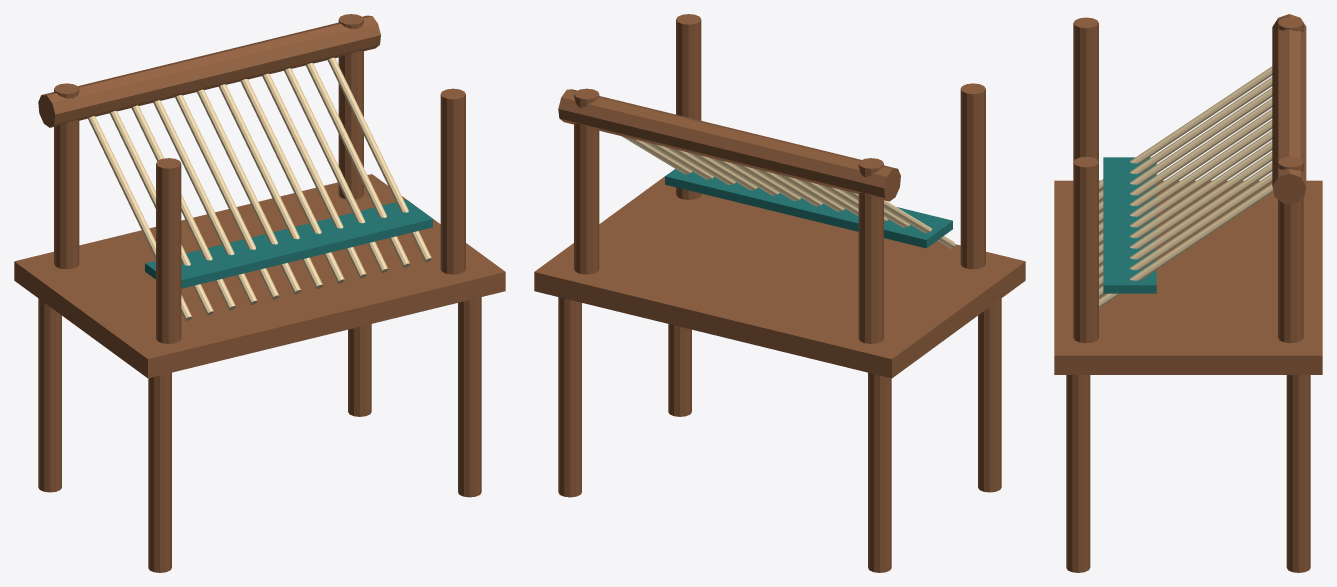
The model's file is 071_handloom.glb.
The picture shows the model from 3 angles, left to right: view 1: azimuth 30°, elevation 25°; view 2: azimuth 150°, elevation 25°; view 3: azimuth 270°, elevation 25°; orthographic projection.
Visible parts, largest first — view 1: Handloom; view 2: Handloom; view 3: Handloom.
Part boxes in pixels (x1=…): Handloom: x1=14, y1=14, x2=505, y2=572; Handloom: x1=534, y1=14, x2=1025, y2=572; Handloom: x1=1054, y1=14, x2=1322, y2=572.
Bounding box in the file's own units: 1.56 × 1.66 × 1.01.
